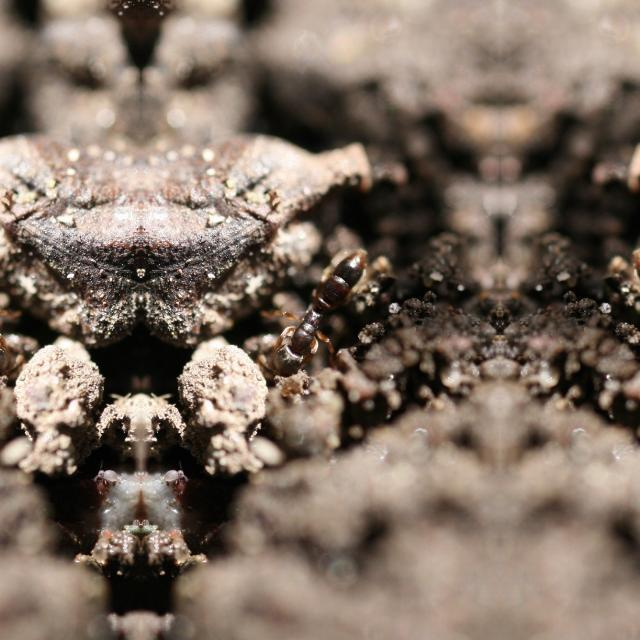Ponera: (261, 225, 373, 382)
